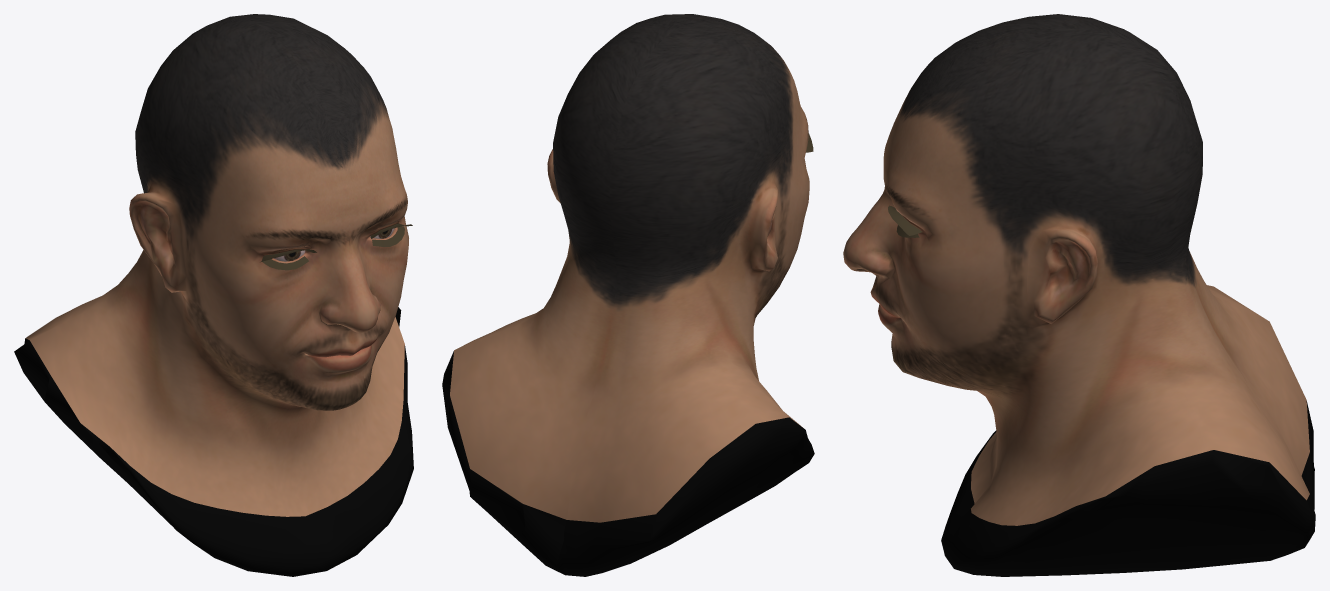
The model's file is Head.fbx.
3 renders of one model, left to right at view 1: azimuth 30°, elevation 25°; view 2: azimuth 150°, elevation 25°; view 3: azimuth 270°, elevation 25°, orthographic. The views are drawn at different scales.
Parts seen in each view (by area): view 1: Mesh; view 2: Mesh; view 3: Mesh.
Part boxes in pixels (x1,y1,x2,y2): Mesh: [14, 14, 413, 576]; Mesh: [442, 14, 814, 576]; Mesh: [843, 14, 1315, 576].
Size of the model in its own units: 2778 by 3823 by 3066.
2 materials, 2 textured.
